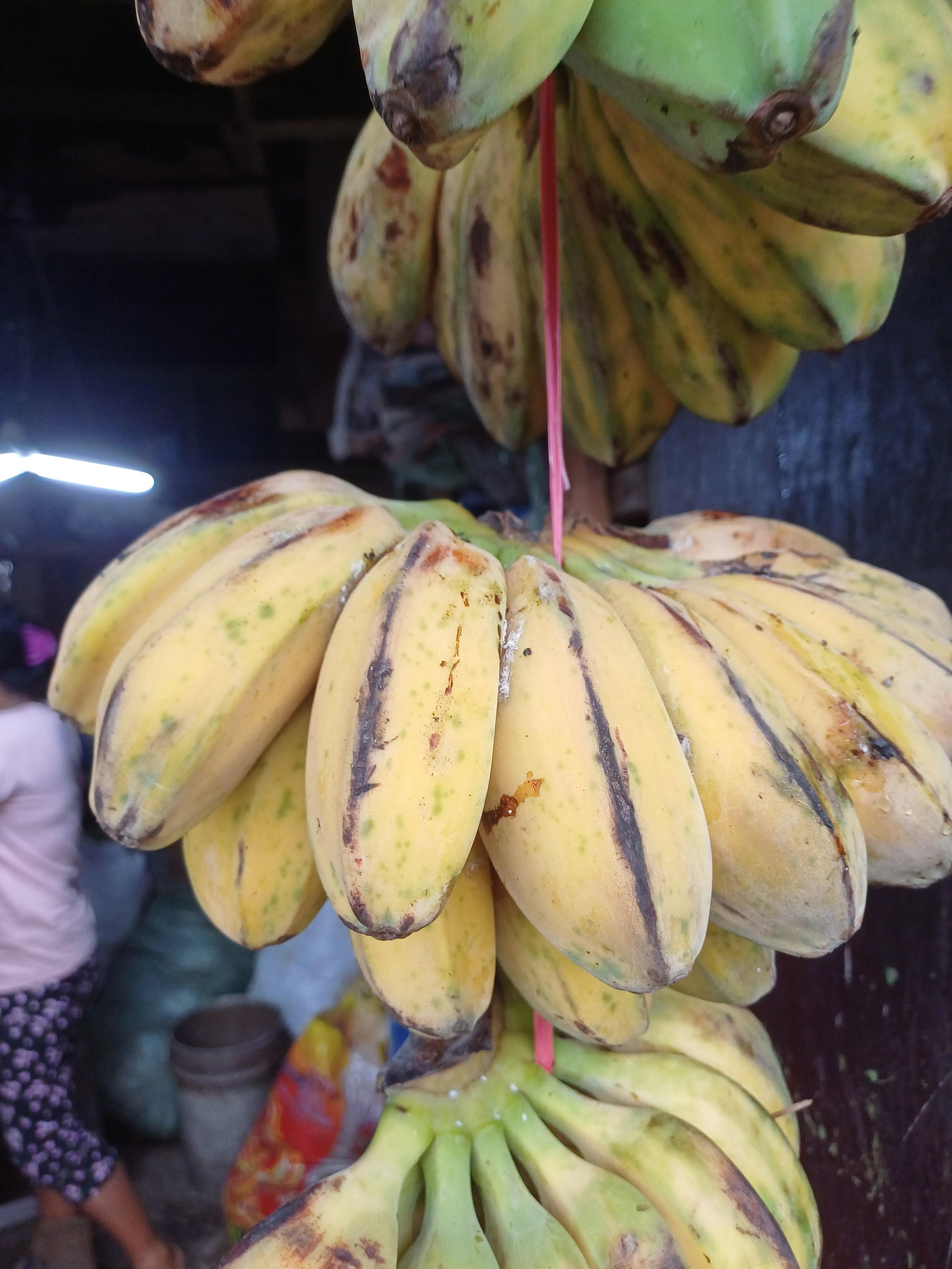underripe: (44, 469, 952, 1050), (135, 0, 952, 470), (203, 991, 825, 1269)
